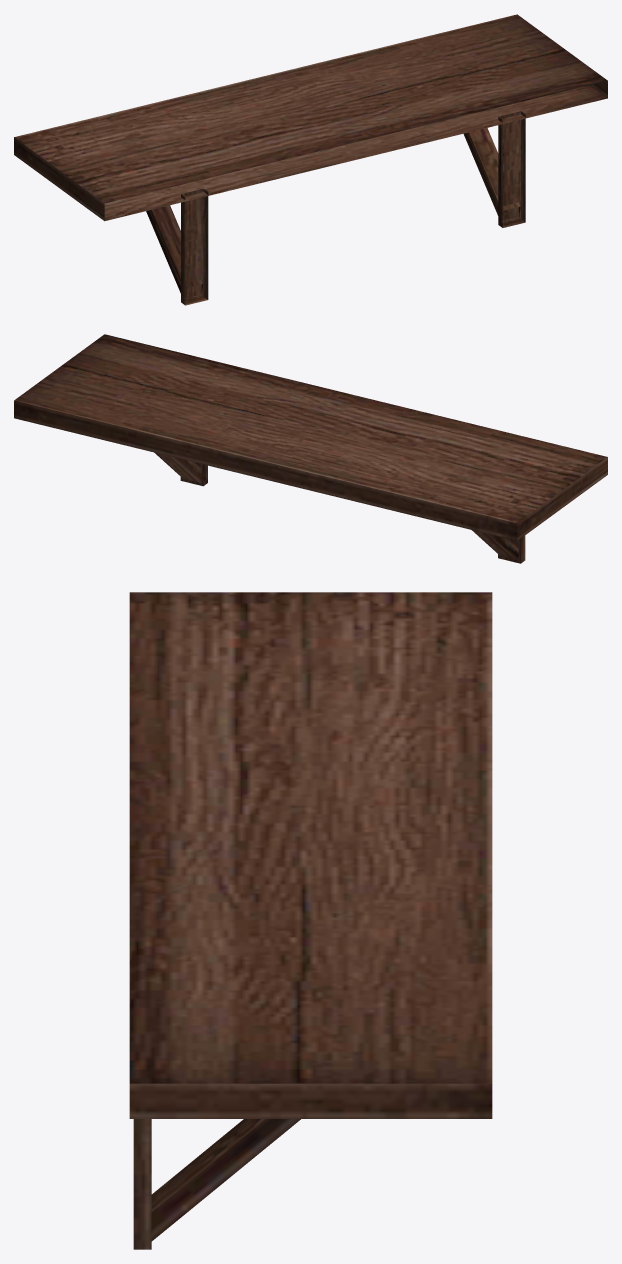
The model's file is WallShelf.fbx.
3 renders of one model, top to bottom at view 1: azimuth 30°, elevation 25°; view 2: azimuth 150°, elevation 25°; view 3: azimuth 270°, elevation 25°, orthographic. The views are drawn at different scales.
Visible parts, largest first — view 1: WallShelf; view 2: WallShelf; view 3: WallShelf.
Boxes of the visible parts, x1,y1,x2,y2 form: WallShelf: (14,14,607,305); WallShelf: (14,334,607,563); WallShelf: (129,592,492,1249).
Bounding box in the file's own units: 2 × 0.4662 × 0.624.
